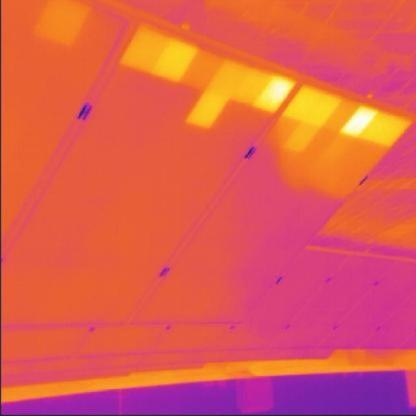anomaly: (187, 65, 296, 131), (121, 24, 206, 86), (264, 86, 340, 151), (342, 101, 410, 151)
